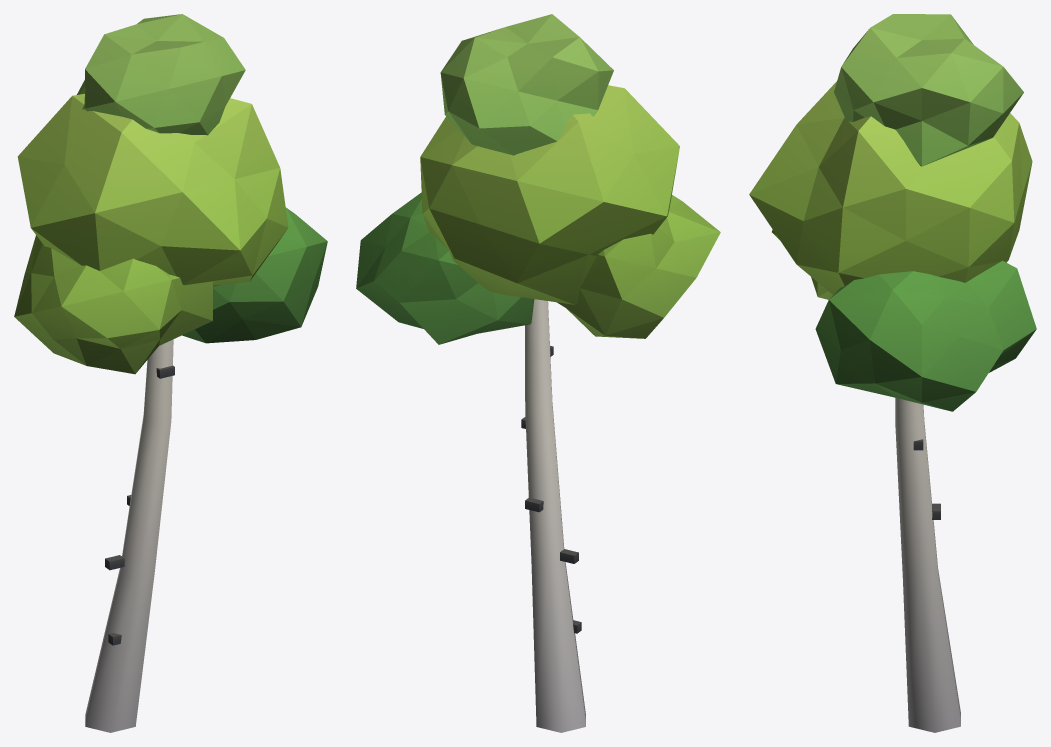
The model's file is tree_birch.glb.
3 renders of one model, left to right at view 1: azimuth 30°, elevation 25°; view 2: azimuth 150°, elevation 25°; view 3: azimuth 270°, elevation 25°, orthographic. The views are drawn at different scales.
Visible parts, largest first — view 1: tree_birch; view 2: tree_birch; view 3: tree_birch.
Boxes of the visible parts, x1,y1,x2,y2 form: tree_birch: (14,14,327,732); tree_birch: (356,14,720,732); tree_birch: (749,14,1036,732).
Bounding box in the file's own units: 11.85 × 24.41 × 8.93.
1 material, 1 textured.
